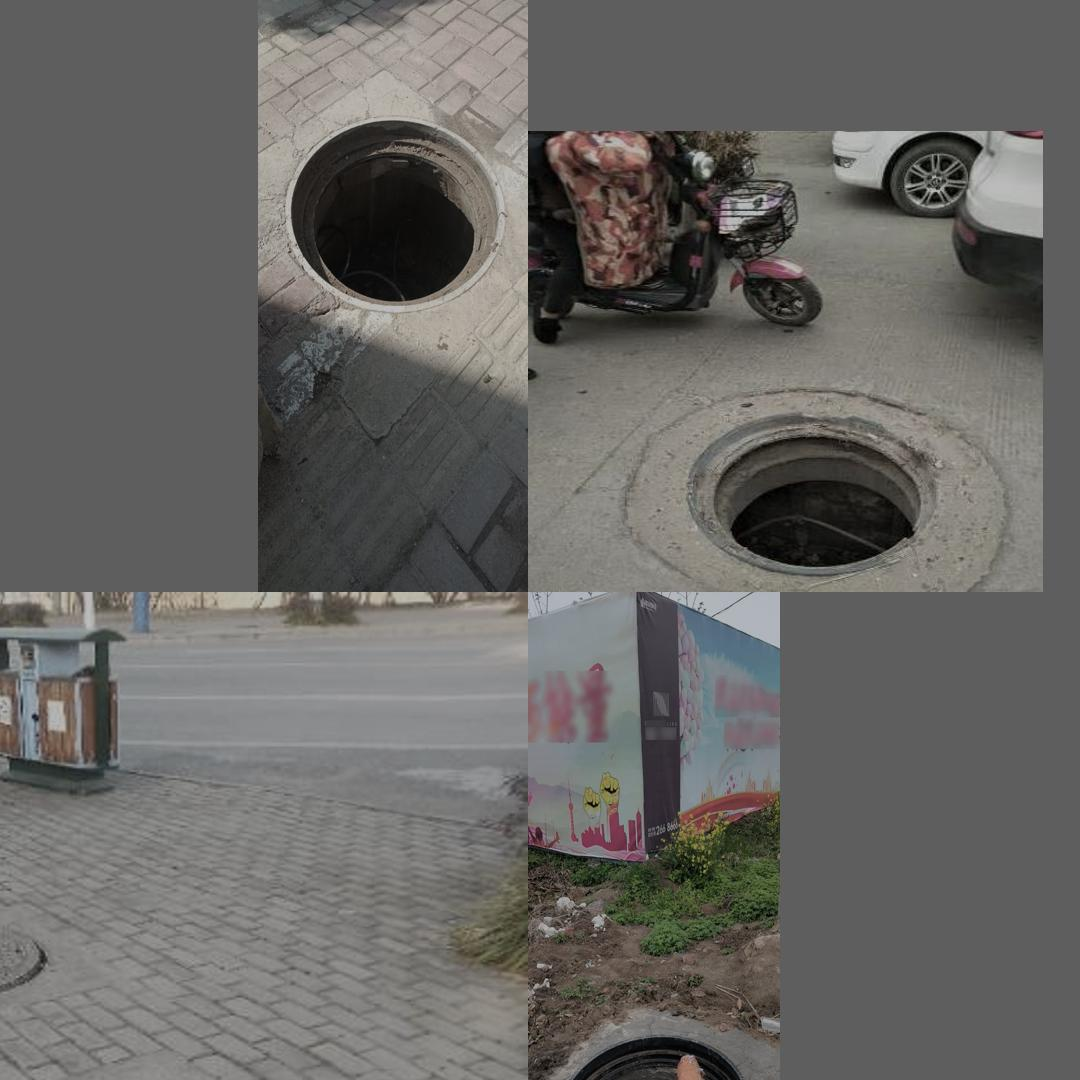good: (0, 918, 45, 1007)
lose: (285, 116, 503, 312), (687, 409, 940, 573), (549, 1033, 762, 1080)
